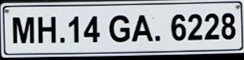character: (12, 15, 34, 44), (108, 13, 129, 42), (131, 14, 153, 41), (37, 15, 56, 43), (170, 13, 187, 42), (83, 15, 100, 43), (203, 12, 220, 40), (187, 13, 203, 40), (220, 12, 235, 39), (67, 15, 79, 43)
